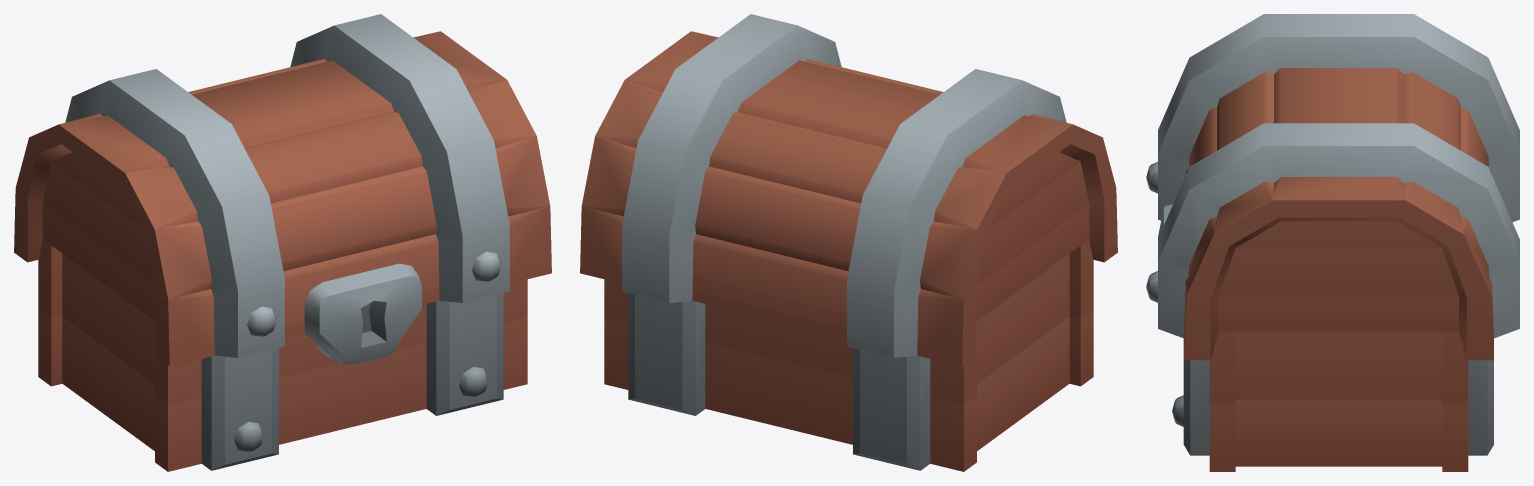
Rendered from chest_gold.glb.
The picture shows the model from 3 angles, left to right: view 1: azimuth 30°, elevation 25°; view 2: azimuth 150°, elevation 25°; view 3: azimuth 270°, elevation 25°; orthographic projection.
Visible parts, largest first — view 1: chest_gold_lid, chest_gold; view 2: chest_gold_lid, chest_gold; view 3: chest_gold_lid, chest_gold.
Part boxes in pixels (x1,y1,x2,y2): chest_gold_lid: (14,14,551,366); chest_gold: (38,239,527,471); chest_gold_lid: (580,14,1117,366); chest_gold: (604,239,1093,471); chest_gold_lid: (1146,14,1519,360); chest_gold: (1172,331,1493,471).
Bounding box in the file's own units: 1.7 × 1.3 × 1.45.
Materials: 1 (1 with a texture image).
